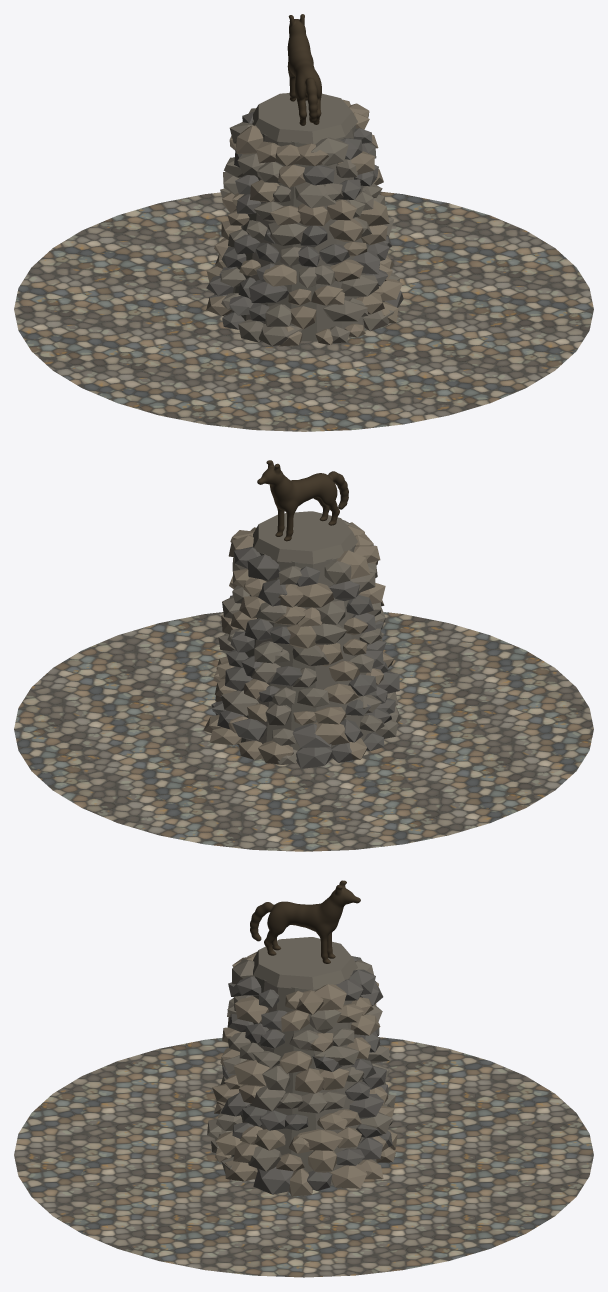
The model's file is tekapo-collie.glb.
3 renders of one model, top to bottom at view 1: azimuth 30°, elevation 25°; view 2: azimuth 150°, elevation 25°; view 3: azimuth 270°, elevation 25°, orthographic.
Visible parts, largest first — view 1: Sheepdog_cairn, Sheepdog_bronze; view 2: Sheepdog_cairn, Sheepdog_bronze; view 3: Sheepdog_cairn, Sheepdog_bronze.
Boxes of the visible parts, x1,y1,x2,y2 form: Sheepdog_cairn: (14, 93, 593, 431); Sheepdog_bronze: (287, 14, 321, 125); Sheepdog_cairn: (14, 511, 593, 851); Sheepdog_bronze: (257, 460, 348, 541); Sheepdog_cairn: (14, 937, 593, 1277); Sheepdog_bronze: (250, 880, 360, 963).
Bounding box in the file's own units: 6 × 3.26 × 6.
6 materials, 1 textured.
